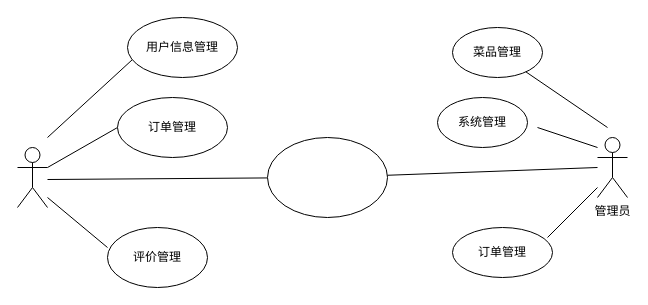
Image size: 648x305. Some labels were removed from this diagram. Each missing label, with the box of its shape:
用户: (16, 146, 48, 208)
登录系统: (266, 136, 388, 218)
